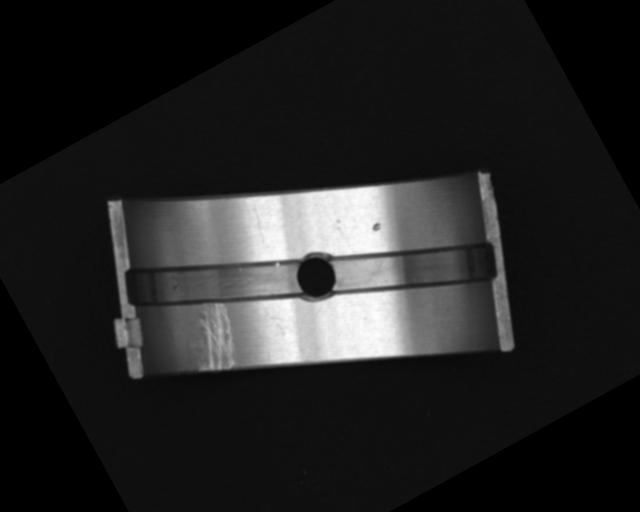bruise: (369, 219, 384, 234)
gap: (118, 196, 311, 364), (324, 194, 503, 346)
hole: (287, 246, 344, 305)
nick: (242, 200, 272, 242)
scratch: (174, 296, 253, 382)
